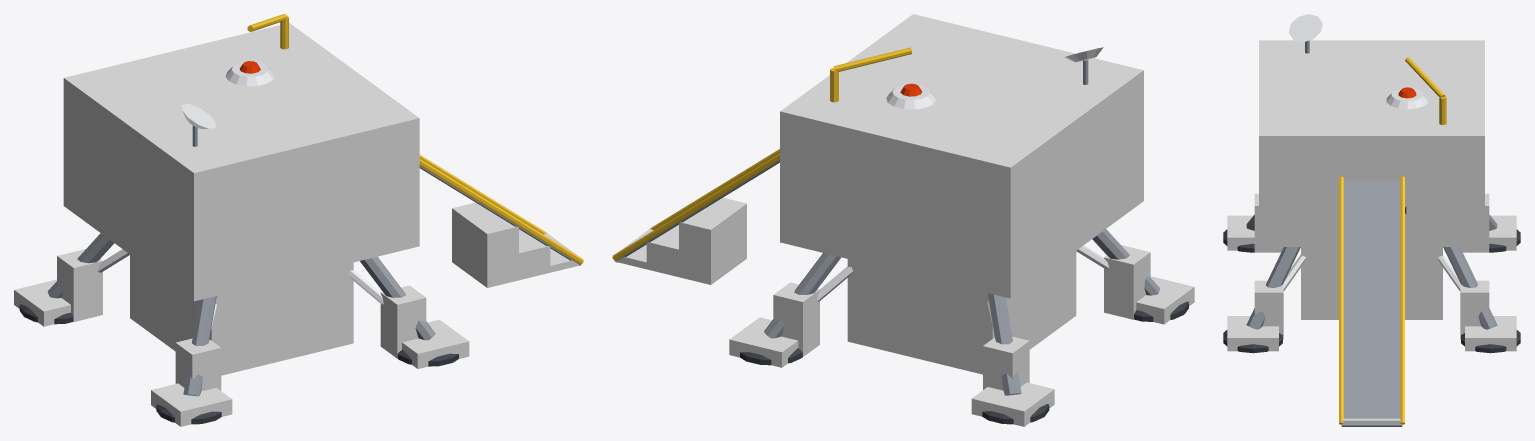
File: CargoLander.glb
The picture shows the model from 3 angles, left to right: view 1: azimuth 30°, elevation 25°; view 2: azimuth 150°, elevation 25°; view 3: azimuth 270°, elevation 25°; orthographic projection. The views are drawn at different scales.
Parts seen in each view (by area): view 1: COL_Body, COL_Engines, COL_Ramp1, CargoLander_Grey, COL_LegNW, CargoLander_Yellow, COL_LegSE, CargoLander_White, COL_PadSW, COL_LegSW, COL_PadSE, COL_PadNW (+2 smaller); view 2: COL_Body, COL_Engines, COL_Ramp1, CargoLander_Grey, CargoLander_Yellow, COL_LegSW, COL_LegNE, COL_PadNW, COL_LegNW, CargoLander_White, COL_PadNE, COL_PadSW (+2 smaller); view 3: COL_Body, CargoLander_Grey, COL_Engines, CargoLander_Yellow, CargoLander_White, COL_PadNE, COL_PadSE, COL_LegNE, COL_LegSE, CargoLander_Dark, COL_PadNW, COL_PadSW (+3 smaller).
Part boxes in pixels (bbox=[...]): COL_Body: bbox=[63, 23, 419, 301]; COL_Engines: bbox=[130, 255, 353, 375]; COL_Ramp1: bbox=[452, 202, 518, 287]; CargoLander_Grey: bbox=[47, 125, 580, 396]; COL_LegNW: bbox=[57, 249, 102, 321]; CargoLander_Yellow: bbox=[247, 14, 583, 263]; COL_LegSE: bbox=[380, 285, 426, 358]; CargoLander_White: bbox=[97, 61, 383, 328]; COL_PadSW: bbox=[151, 383, 232, 426]; COL_LegSW: bbox=[175, 338, 221, 391]; COL_PadSE: bbox=[402, 319, 469, 368]; COL_PadNW: bbox=[14, 279, 70, 326]; COL_Body: bbox=[780, 14, 1143, 298]; COL_Engines: bbox=[847, 251, 1076, 374]; COL_Ramp1: bbox=[679, 197, 746, 284]; CargoLander_Grey: bbox=[616, 59, 1160, 395]; CargoLander_Yellow: bbox=[612, 47, 912, 260]; COL_LegSW: bbox=[1104, 245, 1150, 319]; COL_LegNE: bbox=[773, 282, 819, 356]; COL_PadNW: bbox=[971, 382, 1054, 426]; COL_LegNW: bbox=[983, 336, 1029, 390]; CargoLander_White: bbox=[817, 47, 1109, 327]; COL_PadNE: bbox=[729, 317, 798, 367]; COL_PadSW: bbox=[1136, 276, 1194, 324]; COL_Body: bbox=[1259, 40, 1484, 246]; CargoLander_Grey: bbox=[1246, 40, 1497, 426]; COL_Engines: bbox=[1301, 247, 1442, 319]; CargoLander_Yellow: bbox=[1339, 57, 1446, 424]; CargoLander_White: bbox=[1283, 14, 1460, 291]; COL_PadNE: bbox=[1465, 316, 1516, 351]; COL_PadSE: bbox=[1227, 316, 1278, 351]; COL_LegNE: bbox=[1460, 280, 1489, 339]; COL_LegSE: bbox=[1254, 280, 1283, 339]; CargoLander_Dark: bbox=[1223, 206, 1520, 353]; COL_PadNW: bbox=[1489, 215, 1516, 250]; COL_PadSW: bbox=[1227, 215, 1254, 250].
Bounding box in the file's own units: 14.68 × 8.41 × 9.21.
